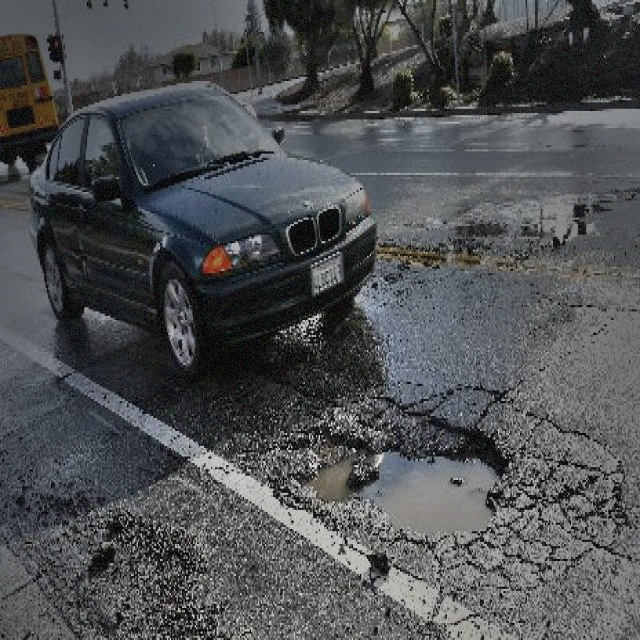pothole: (288, 412, 505, 533)
